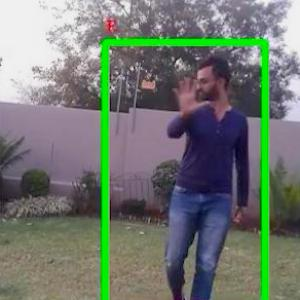follow_hand: (169, 71, 212, 115)
